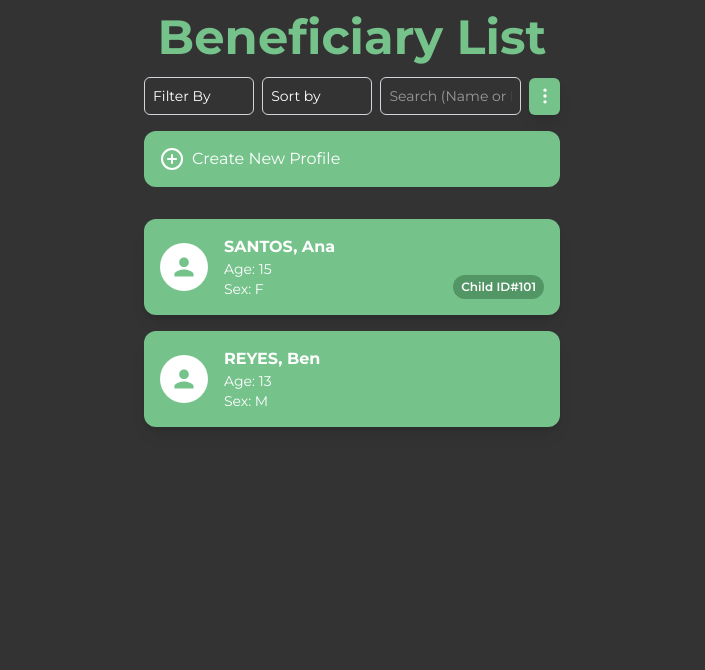
Admin Beneficiary Management › admin can view the list and navigate to a profile
The width and height of the screenshot is (705, 670).
Expected: the text "REYES, Ben" is shown, x1=224 y1=349 x2=320 y2=368
Step 1. Click the text "SANTOS, Ana" → {"x": 280, "y": 246}, box x1=224 y1=237 x2=335 y2=256
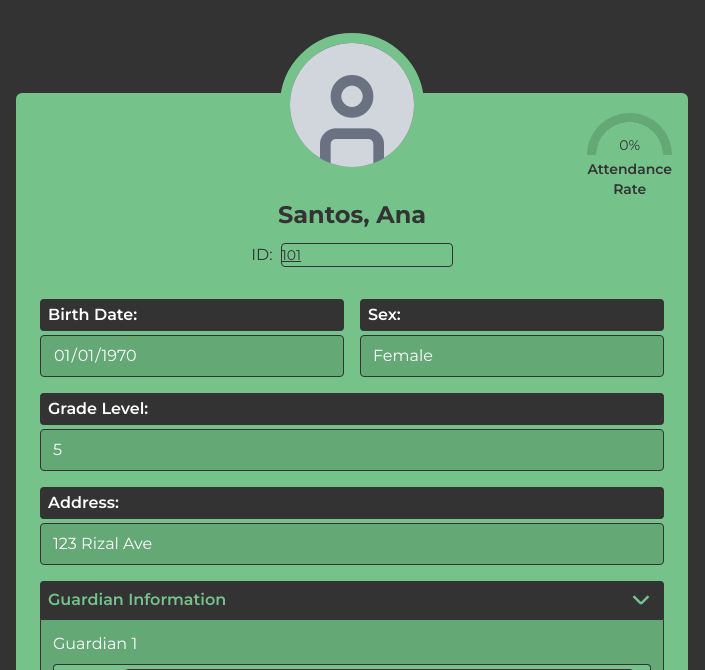
Expected: the field showing "123 Rizal Ave" is shown, x1=40 y1=523 x2=664 y2=565
